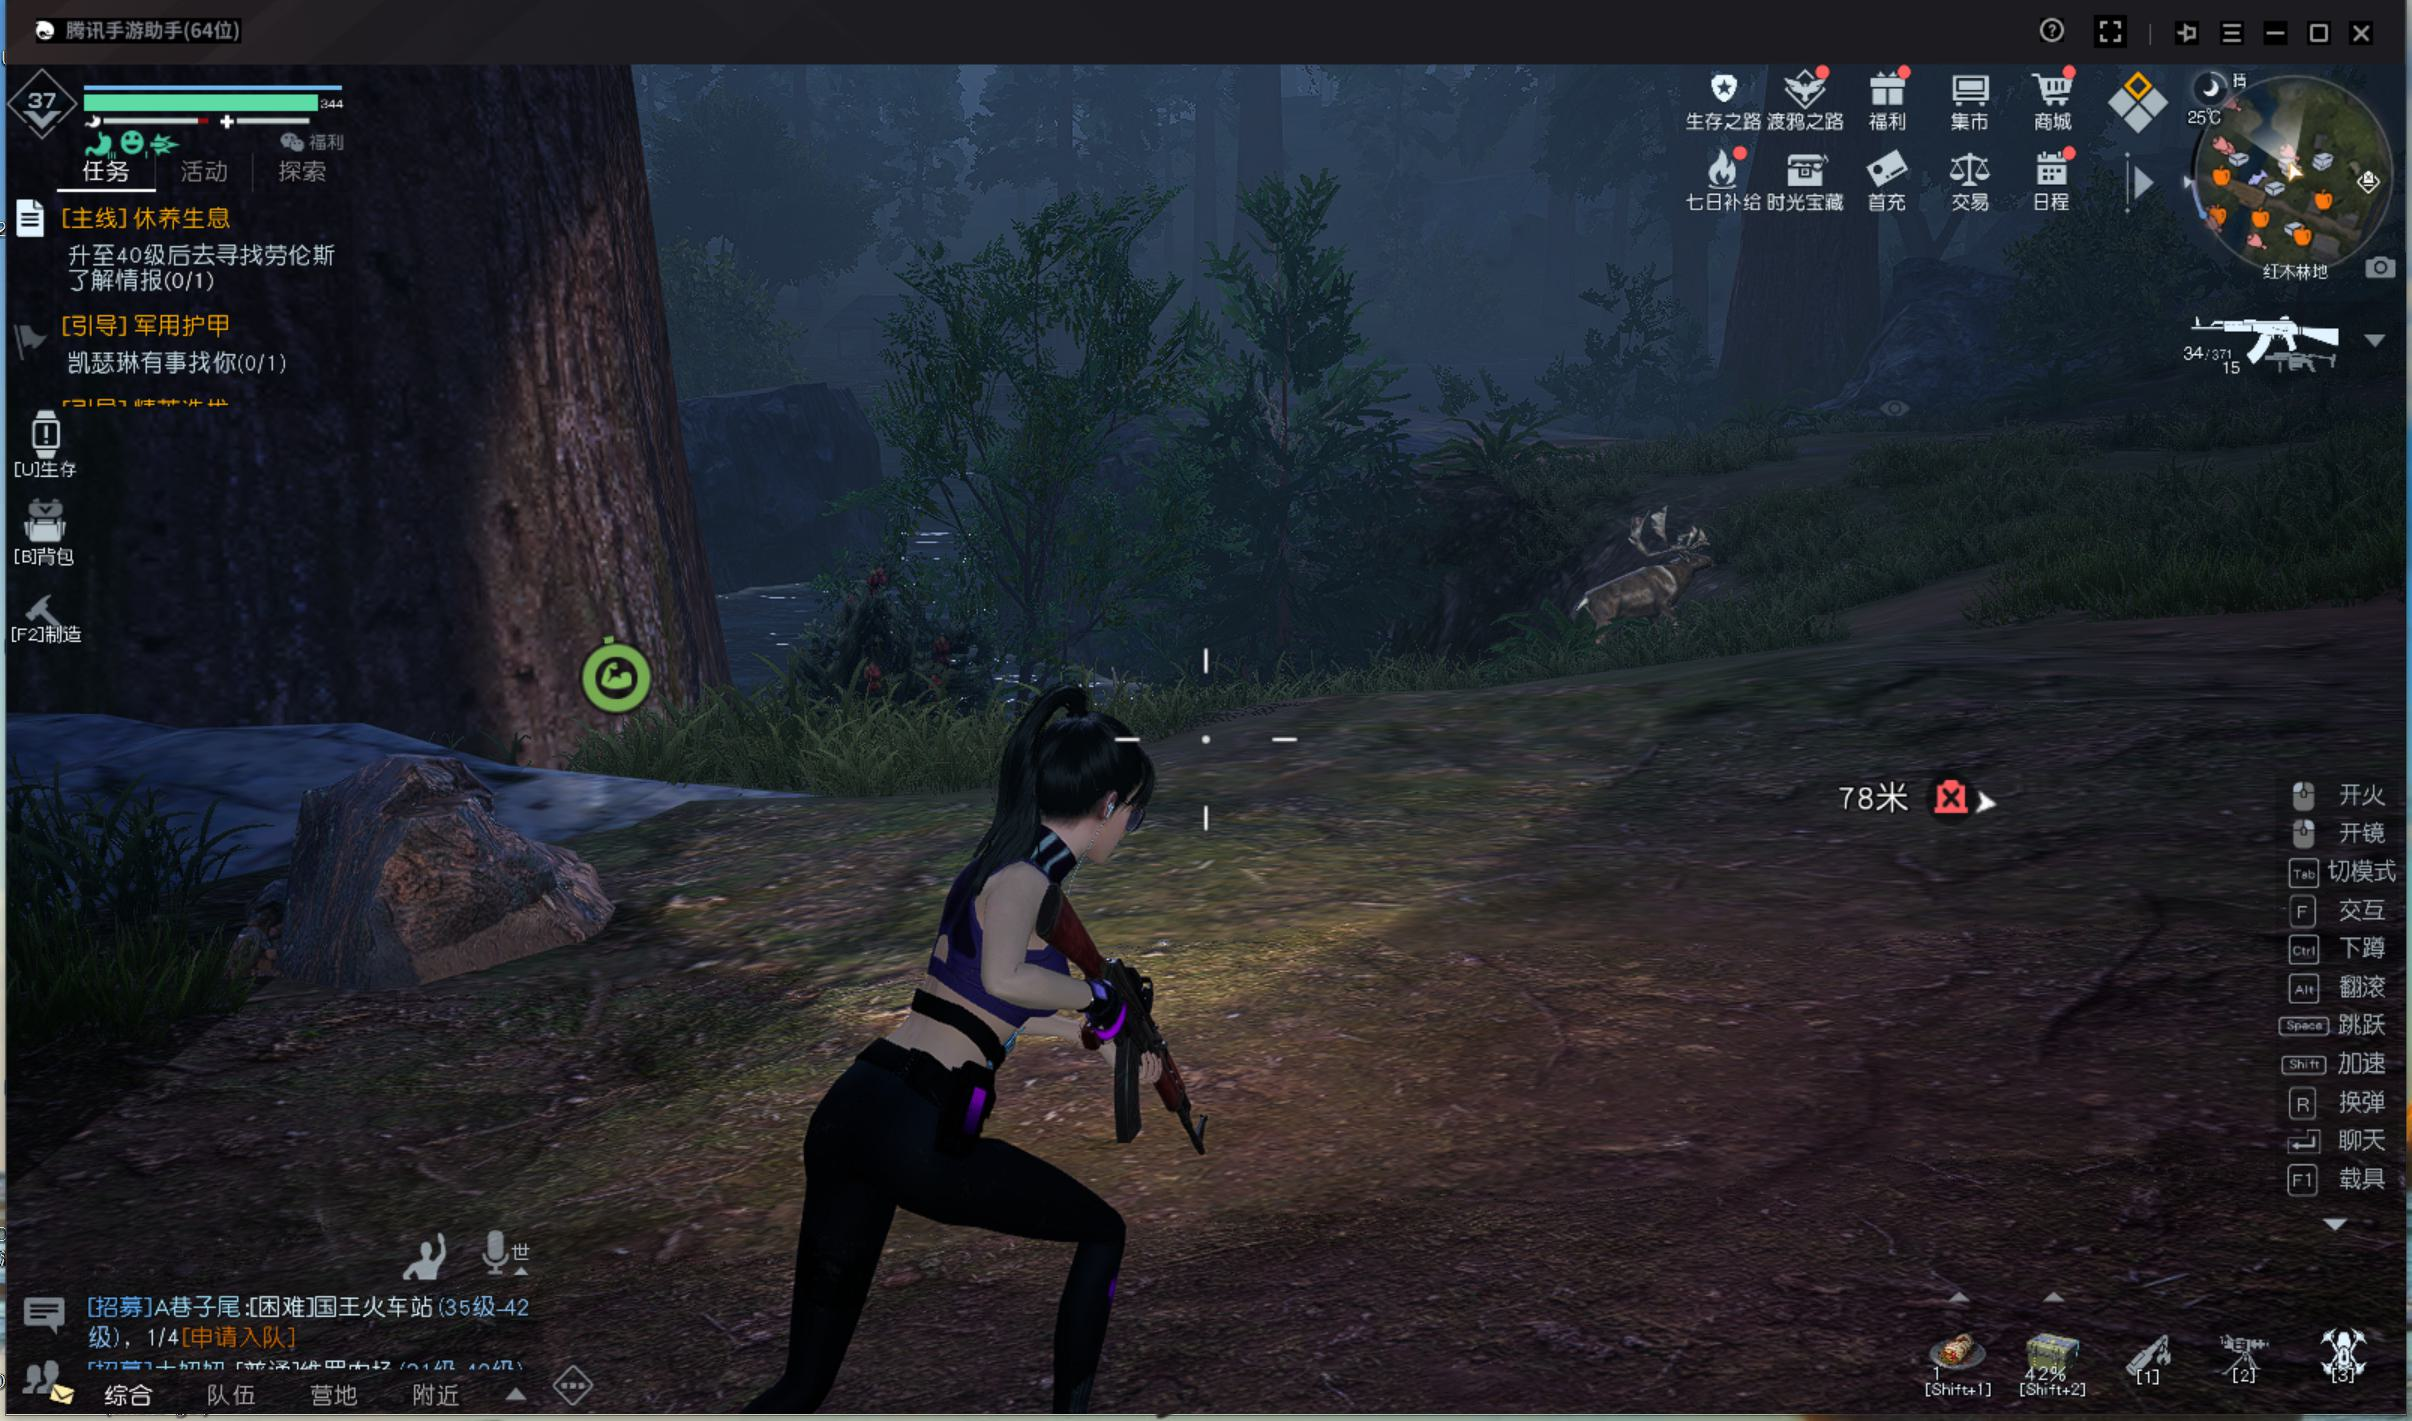stone: (303, 738, 643, 993)
